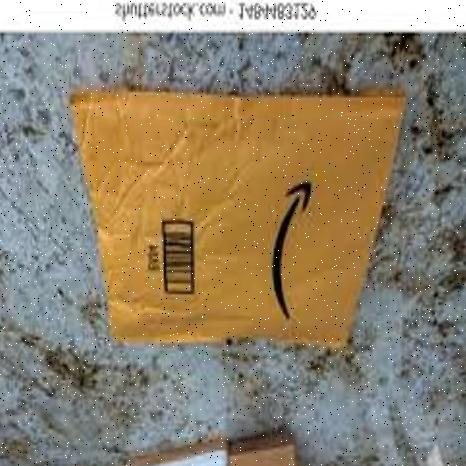Amazon: (69, 93, 411, 351)
